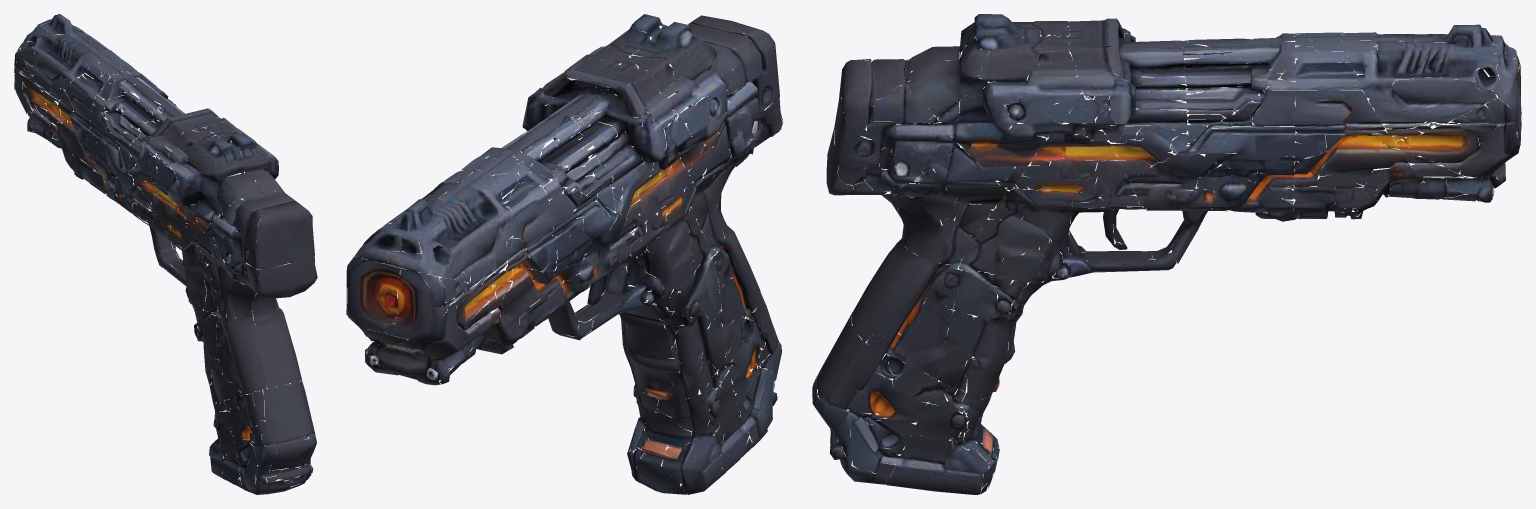
The model's file is pistol.glb.
3 views of the same model, side by side, from view 1: azimuth 30°, elevation 25°; view 2: azimuth 150°, elevation 25°; view 3: azimuth 270°, elevation 25° (orthographic). The views are drawn at different scales.
Parts seen in each view (by area): view 1: gun; view 2: gun; view 3: gun.
Part boxes in pixels (box(x1,y1,x2,y2)): gun: box(14, 14, 317, 494); gun: box(346, 14, 783, 494); gun: box(812, 14, 1521, 494).
Bounding box in the file's own units: 0.0675 × 0.2143 × 0.3001.
1 material, 1 textured.
